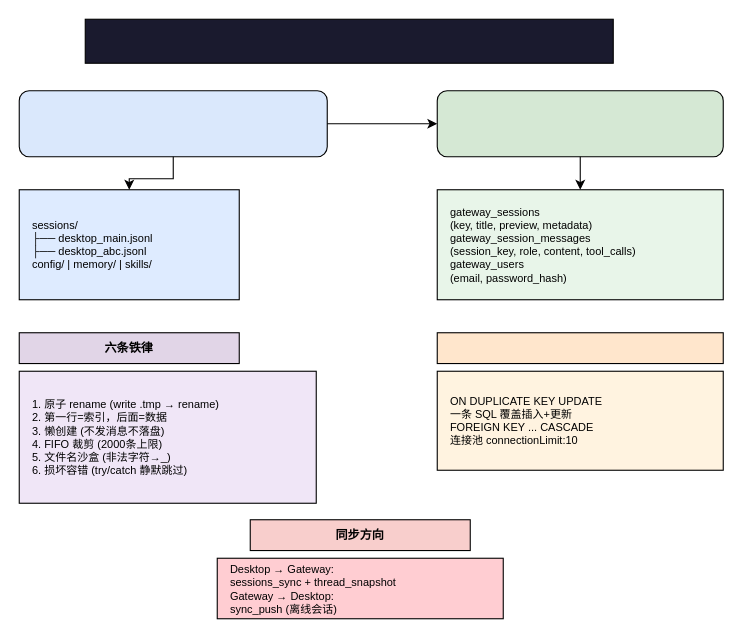
The diagram is 743 pixels wide and 638 high, and some of its shapes have lost their labels. Here are the shapes that lost their labels. From the top down, the box of each, then its label:
(84, 18, 613, 63): 双重人格的存储层 — JSONL 文件 × MySQL 缓存
(18, 90, 327, 157): Desktop (Electron) JSONL File System
(436, 90, 723, 157): Gateway (Node.js) MySQL 8.x
(436, 332, 723, 364): upsert 模式
